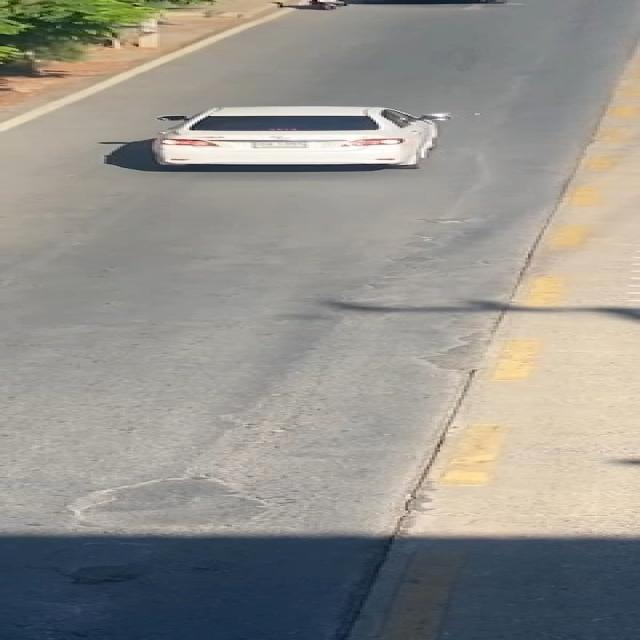car: (134, 96, 476, 184)
